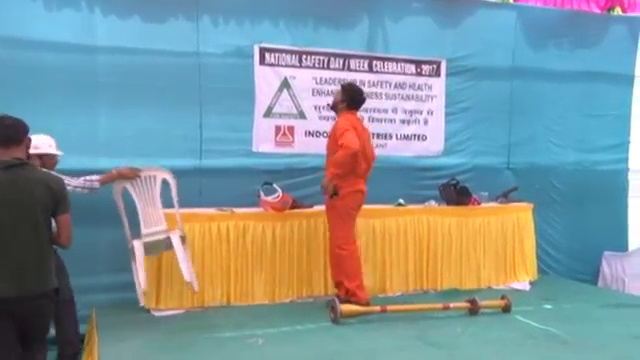helmet: (24, 132, 64, 157)
helmet_off: (1, 114, 31, 166), (330, 82, 365, 116)
helmet_on: (23, 131, 63, 171)
person: (1, 113, 73, 360), (321, 82, 378, 306)
